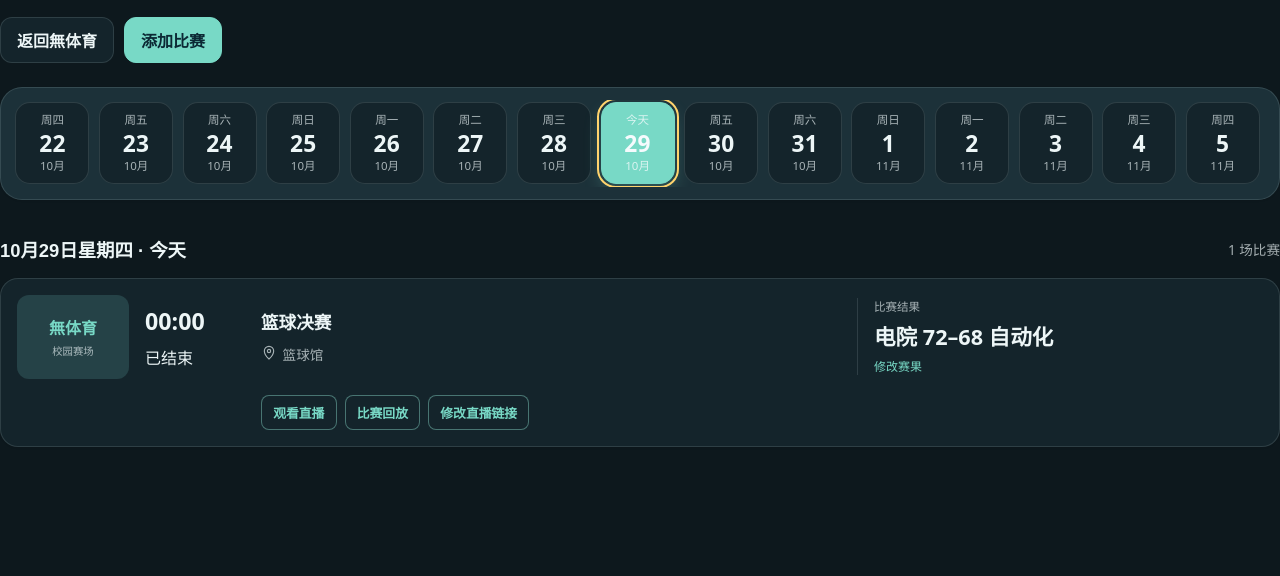
Test: SportsMatchesPage › preserves a newer result when an older live-link response arrives last
The width and height of the screenshot is (1280, 576).
Click the button "修改直播链接" at (479,412), box [428,395,529,430]
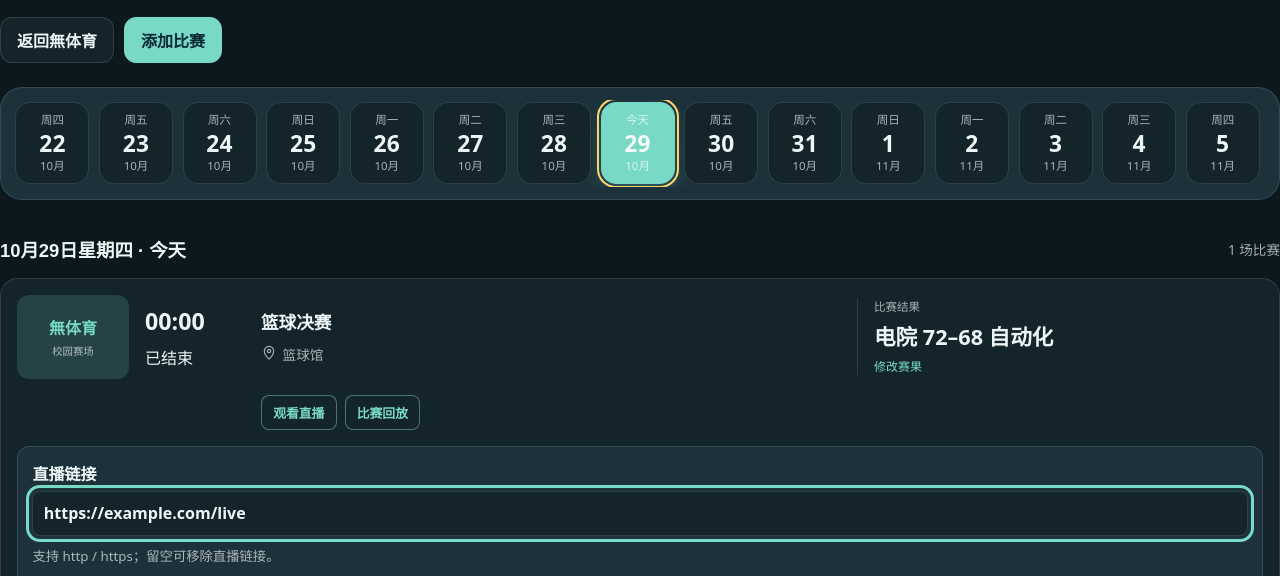
Replace the text in the field named "篮球决赛直播链接" with "https://example.com/new" at (640,513), box [32,491,1248,536]
(page scrolled)
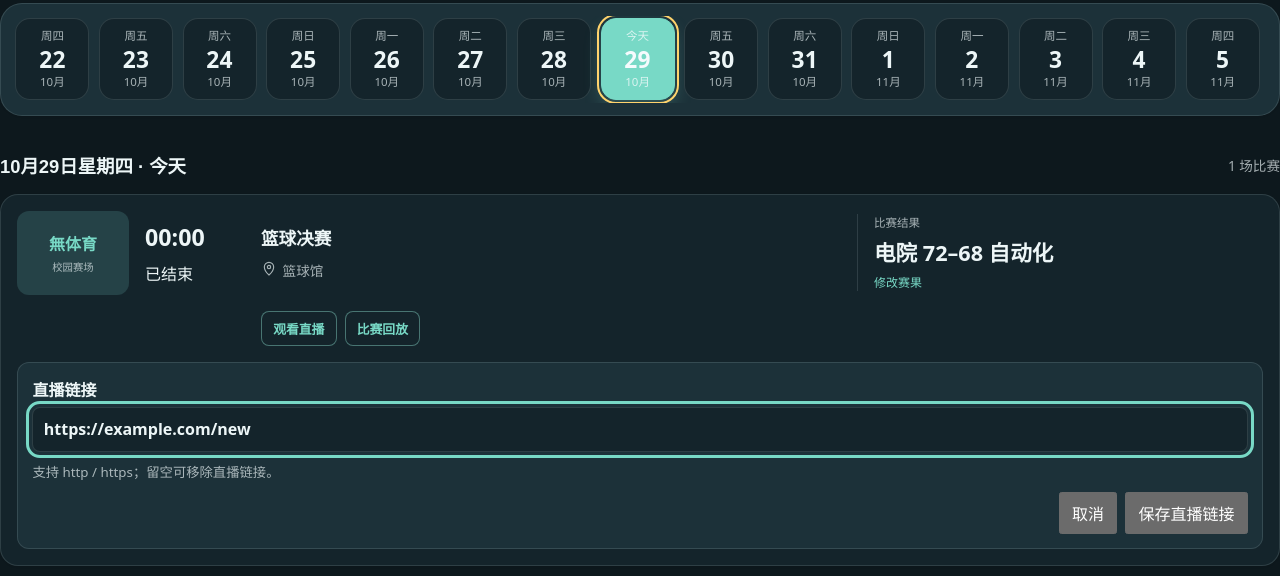
Click the button "保存直播链接" at (1186,513), box [1125,492,1248,534]
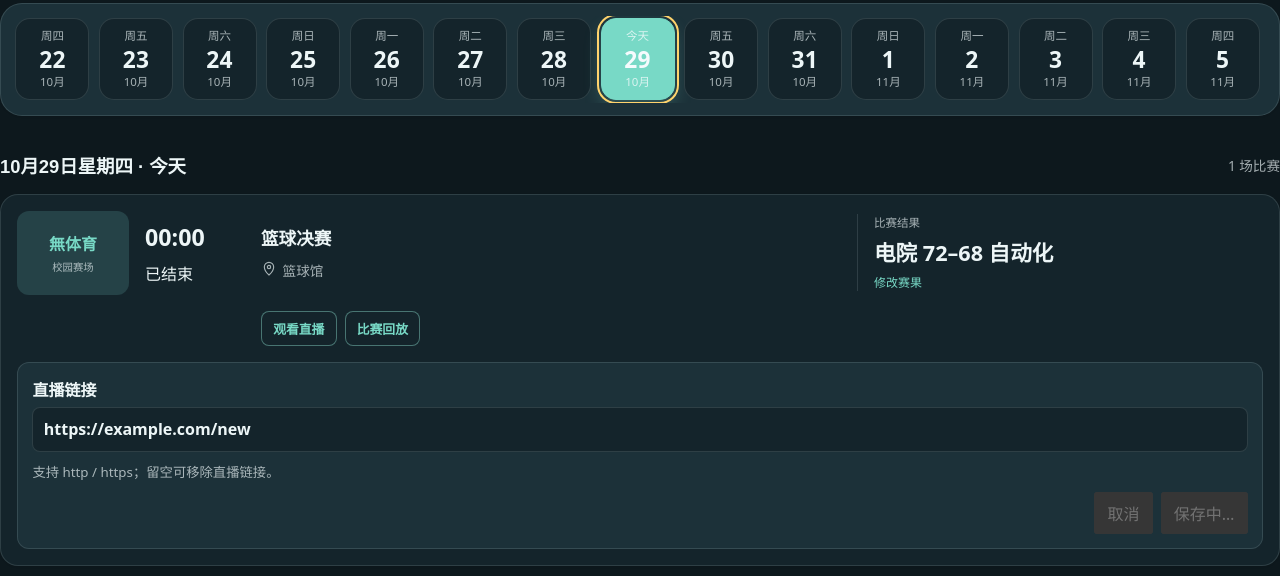
Click the button "修改赛果" at (898,282), box [874,274,922,292]
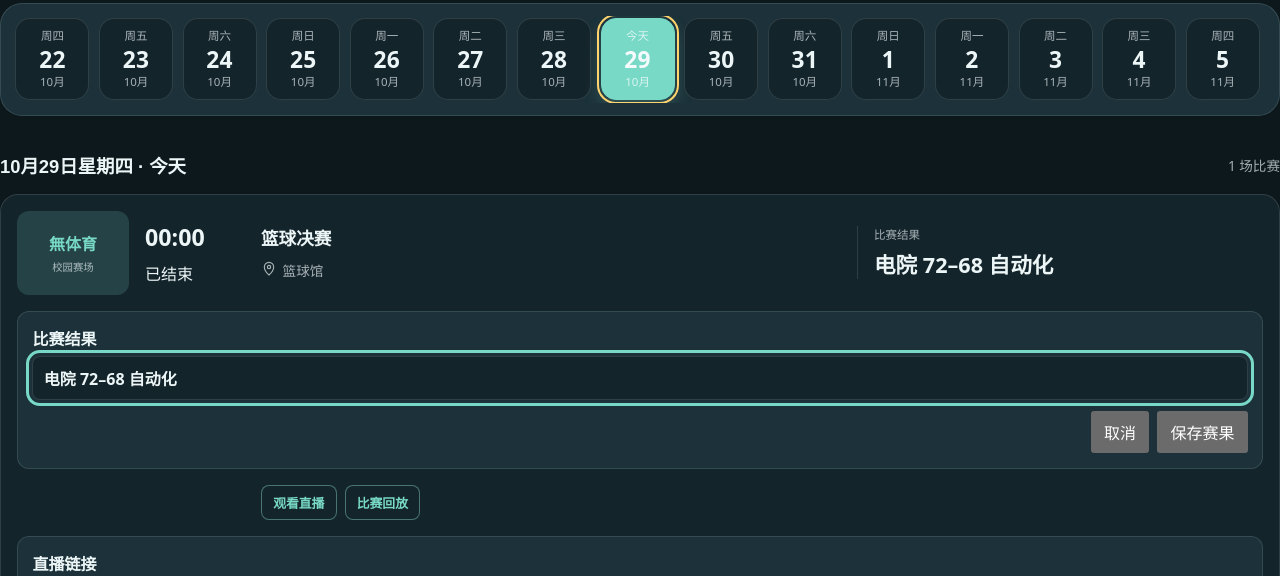
Replace the text in the field named "篮球决赛比赛结果" with "电院 80–70 自动化" at (640,378), box [32,356,1248,400]
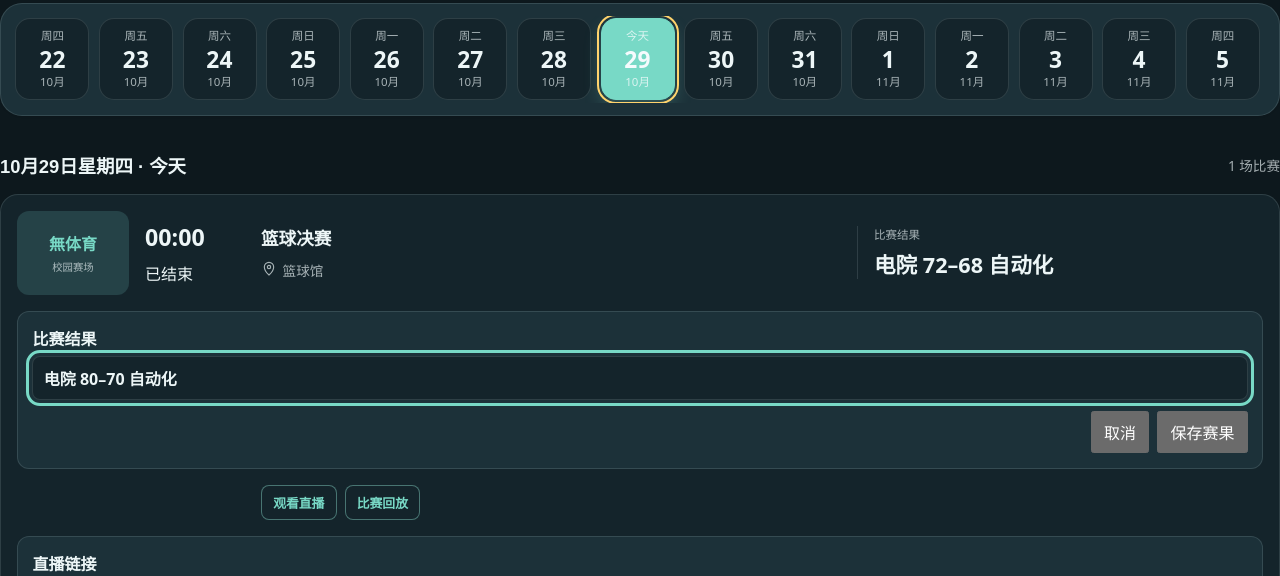
Click the button "保存赛果" at (1202,432), box [1157,411,1248,453]
(page scrolled)
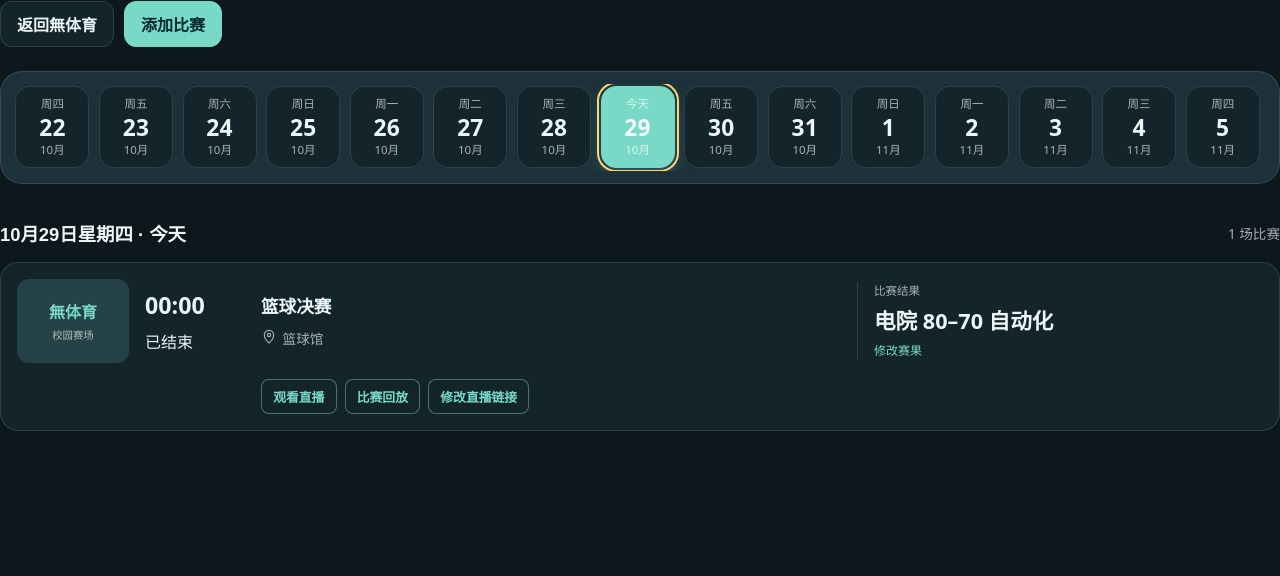
Check: the text "电院 80–70 自动化" is shown, box [874,304,1053,335]
